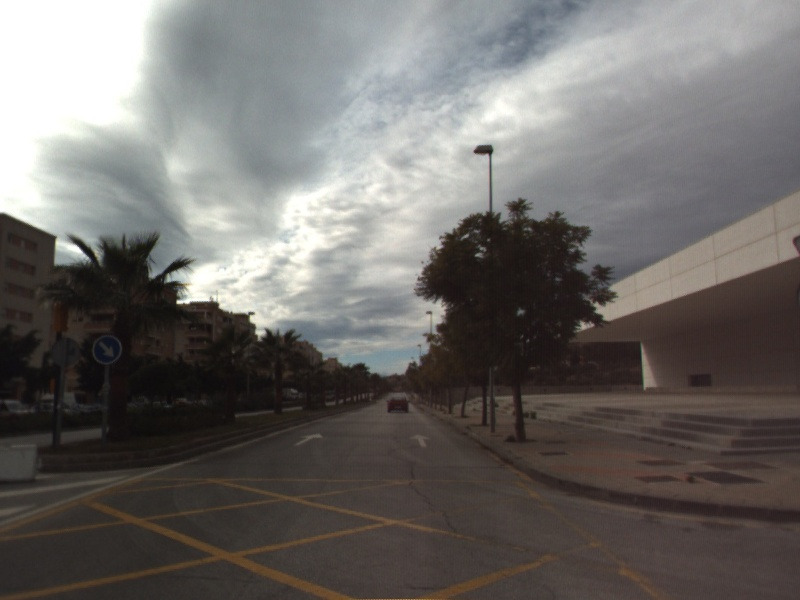STRAIGHT: (291, 431, 325, 448), (408, 432, 433, 450)
